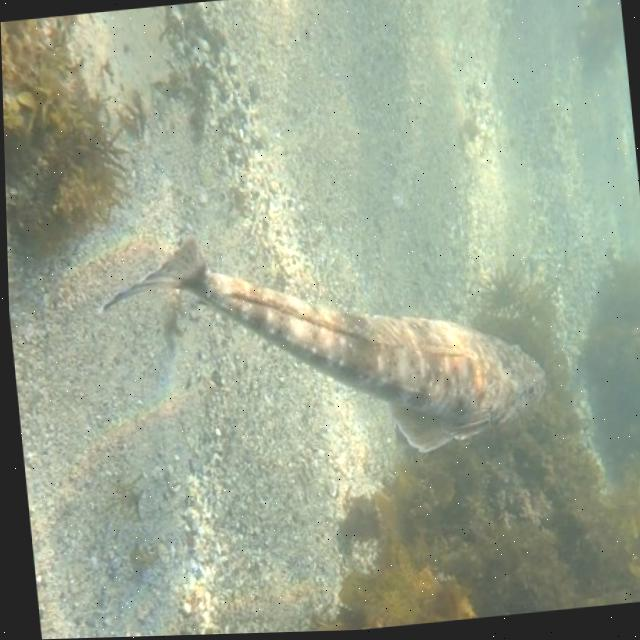Flathead: (76, 192, 556, 486)
